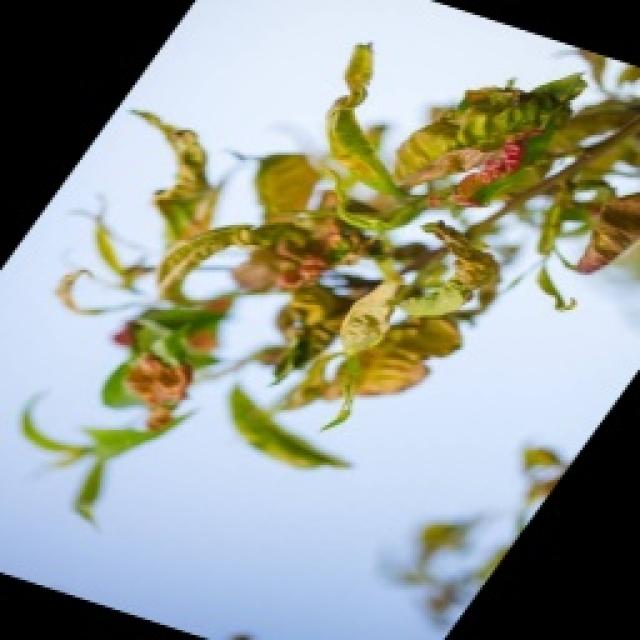Chlorosis: (18, 35, 638, 523)
